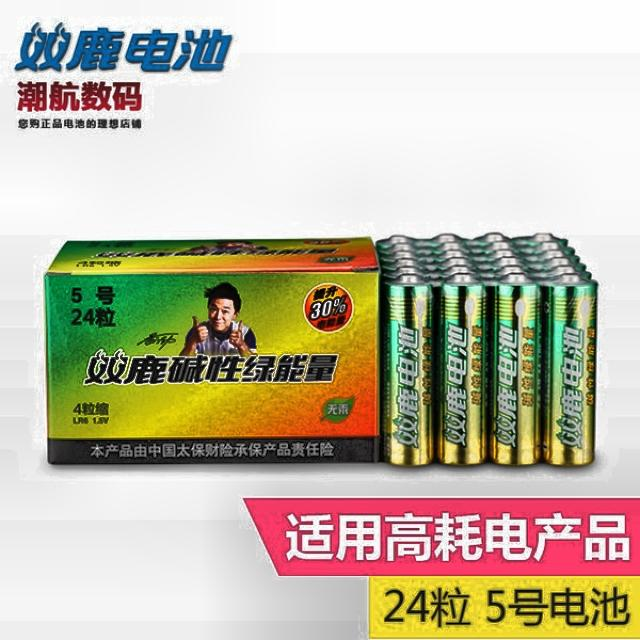Non-Valuable Waste - Batteries: (378, 232, 598, 466)
